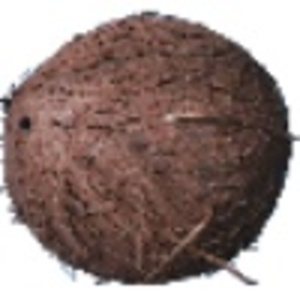coco: (1, 13, 300, 287)
